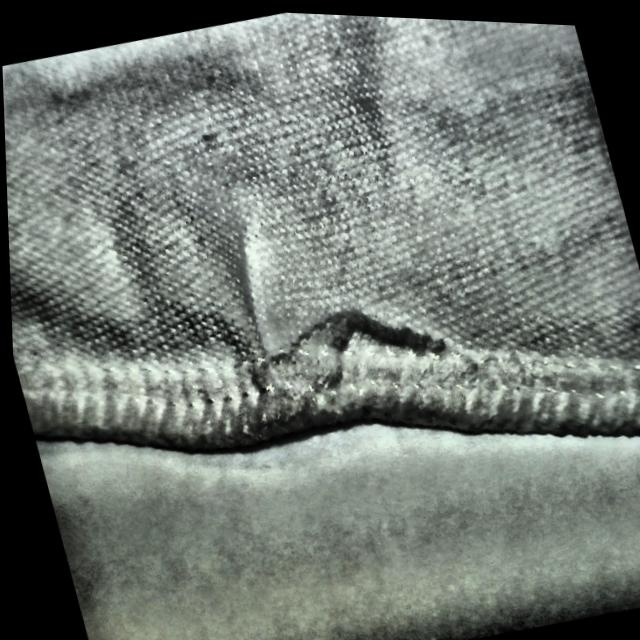seam: (177, 189, 473, 471)
